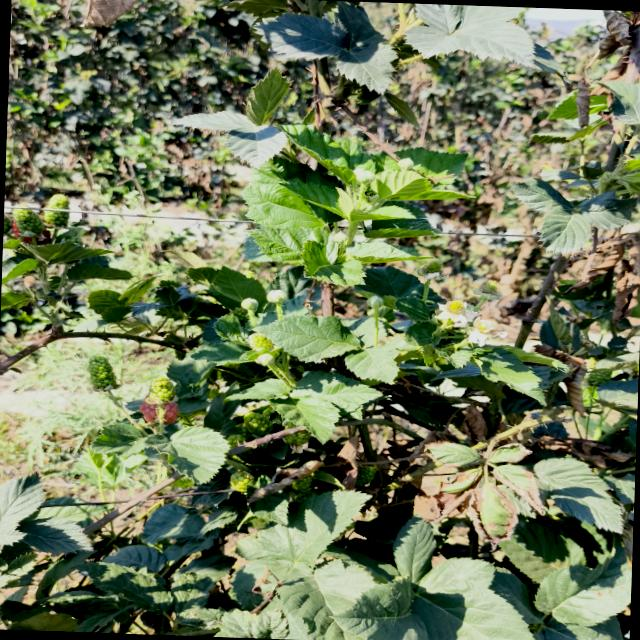boton: (352, 167, 375, 183), (266, 289, 286, 303), (255, 353, 275, 366), (367, 295, 383, 309), (241, 297, 258, 310), (397, 157, 413, 169), (332, 231, 346, 243)
